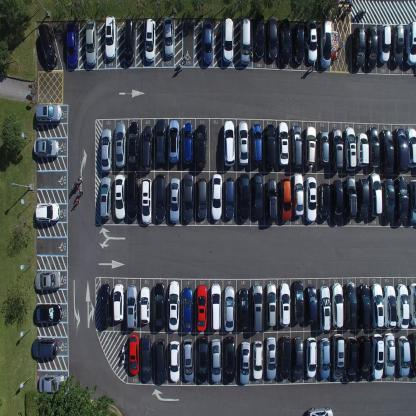car: (38, 23, 58, 69), (357, 283, 372, 330), (65, 22, 79, 70), (380, 128, 394, 175), (394, 127, 408, 173), (396, 284, 410, 330), (331, 334, 345, 380), (395, 176, 408, 225), (251, 284, 264, 333), (319, 21, 332, 70), (154, 338, 168, 383), (223, 120, 236, 168), (141, 124, 154, 172), (126, 172, 139, 220), (344, 281, 357, 329), (85, 18, 98, 66), (383, 286, 397, 330), (35, 302, 63, 324), (31, 336, 59, 358), (183, 172, 195, 223), (318, 285, 331, 332), (331, 282, 344, 329), (123, 18, 136, 65), (397, 335, 411, 378), (127, 120, 139, 170), (265, 178, 278, 224), (290, 125, 303, 171), (344, 127, 357, 173), (371, 284, 384, 330), (371, 334, 384, 380), (370, 172, 383, 218), (352, 26, 366, 68), (35, 102, 63, 123), (279, 177, 292, 222), (358, 335, 371, 380), (278, 335, 291, 380), (391, 23, 404, 68), (305, 19, 318, 64), (331, 179, 344, 224), (100, 127, 113, 172), (169, 176, 181, 224), (210, 283, 222, 331), (197, 336, 209, 384), (141, 177, 153, 225), (252, 172, 264, 220), (305, 176, 317, 224), (194, 124, 207, 168), (181, 122, 194, 166), (169, 279, 180, 331), (278, 283, 291, 327), (344, 338, 357, 382), (344, 176, 357, 220), (357, 177, 370, 221), (99, 175, 112, 219), (38, 372, 65, 393), (196, 284, 208, 331), (211, 173, 223, 220), (224, 337, 236, 384), (264, 124, 276, 171), (104, 14, 116, 61), (32, 138, 60, 158), (304, 126, 317, 169), (210, 338, 222, 384), (382, 178, 394, 224), (114, 122, 126, 168), (237, 121, 249, 166), (126, 285, 138, 330), (183, 338, 195, 383), (331, 127, 343, 172), (265, 282, 277, 327), (239, 341, 251, 386), (266, 16, 278, 61), (144, 18, 156, 63), (34, 271, 61, 291), (239, 173, 250, 222), (155, 173, 166, 222), (240, 17, 251, 66), (317, 128, 330, 169), (168, 119, 180, 163), (154, 282, 165, 330), (224, 177, 236, 221), (405, 20, 416, 68), (366, 26, 378, 70), (280, 19, 291, 67), (100, 283, 112, 327), (182, 285, 193, 332), (224, 285, 235, 332), (155, 119, 166, 166), (114, 174, 125, 221), (197, 176, 209, 219), (250, 123, 262, 166), (278, 121, 289, 167), (128, 334, 140, 376), (169, 340, 181, 382), (368, 126, 380, 168), (319, 338, 331, 380), (293, 23, 305, 65), (202, 19, 213, 64), (223, 19, 234, 64), (292, 337, 303, 382), (254, 14, 265, 59), (34, 203, 60, 222), (293, 174, 304, 218), (293, 280, 304, 324), (384, 332, 395, 376), (266, 337, 277, 381), (141, 335, 151, 383), (378, 24, 390, 64), (357, 132, 370, 168), (238, 288, 249, 330), (164, 16, 175, 58), (306, 337, 317, 378), (252, 340, 263, 381), (140, 285, 151, 325), (113, 284, 124, 323), (319, 183, 330, 221), (306, 286, 317, 324), (406, 127, 415, 171), (408, 178, 416, 224), (408, 282, 416, 327), (307, 406, 335, 416), (410, 332, 416, 376)
